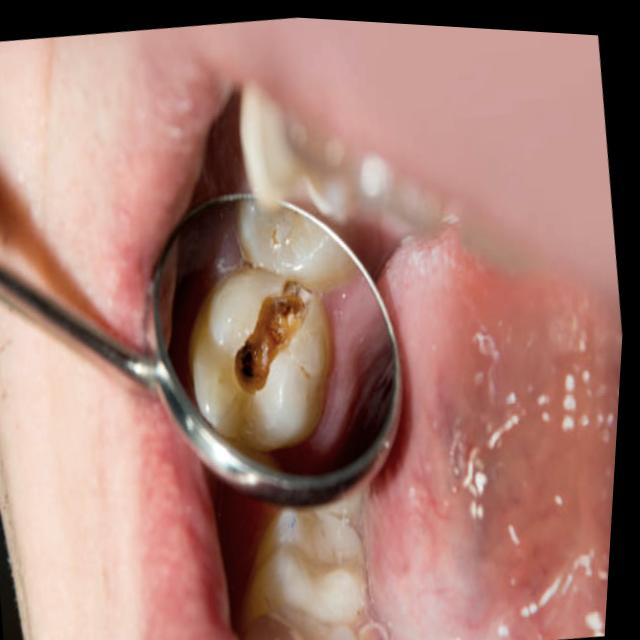cariess: (235, 286, 306, 393)
